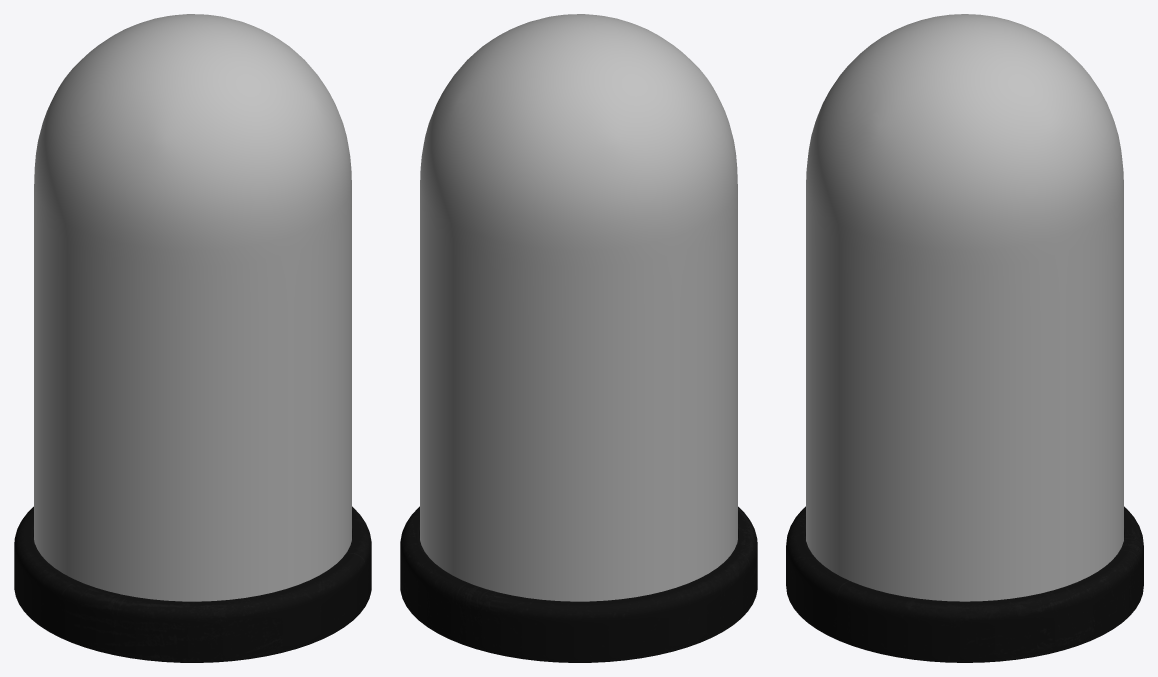
The model's file is candle.glb.
3 renders of one model, left to right at view 1: azimuth 30°, elevation 25°; view 2: azimuth 150°, elevation 25°; view 3: azimuth 270°, elevation 25°, orthographic.
Visible parts, largest first — view 1: Object_2, Object_3; view 2: Object_2, Object_3; view 3: Object_2, Object_3.
Part boxes in pixels (x1=…): Object_2: x1=34, y1=14, x2=351, y2=601; Object_3: x1=14, y1=506, x2=371, y2=662; Object_2: x1=420, y1=14, x2=737, y2=601; Object_3: x1=400, y1=506, x2=757, y2=662; Object_2: x1=806, y1=14, x2=1123, y2=601; Object_3: x1=786, y1=506, x2=1143, y2=662.
Size of the model in its own units: 17.91 by 30.91 by 17.91.
Materials: 2 (2 with a texture image).
